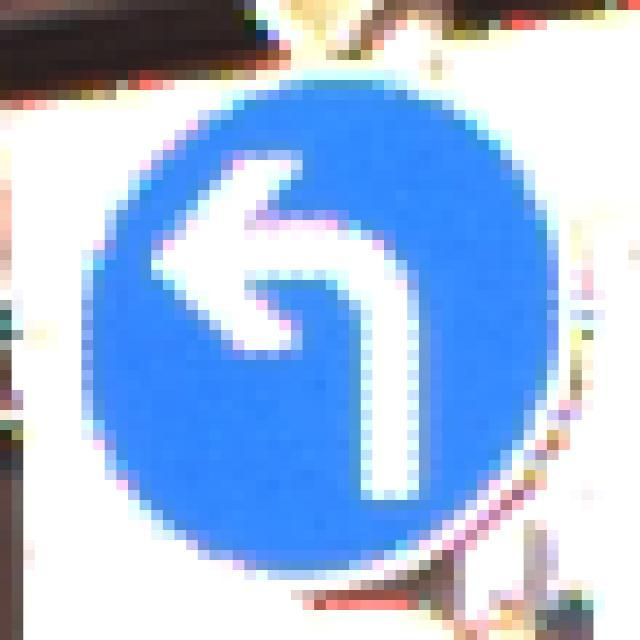compulsary turn left ahead: (82, 79, 563, 575)
